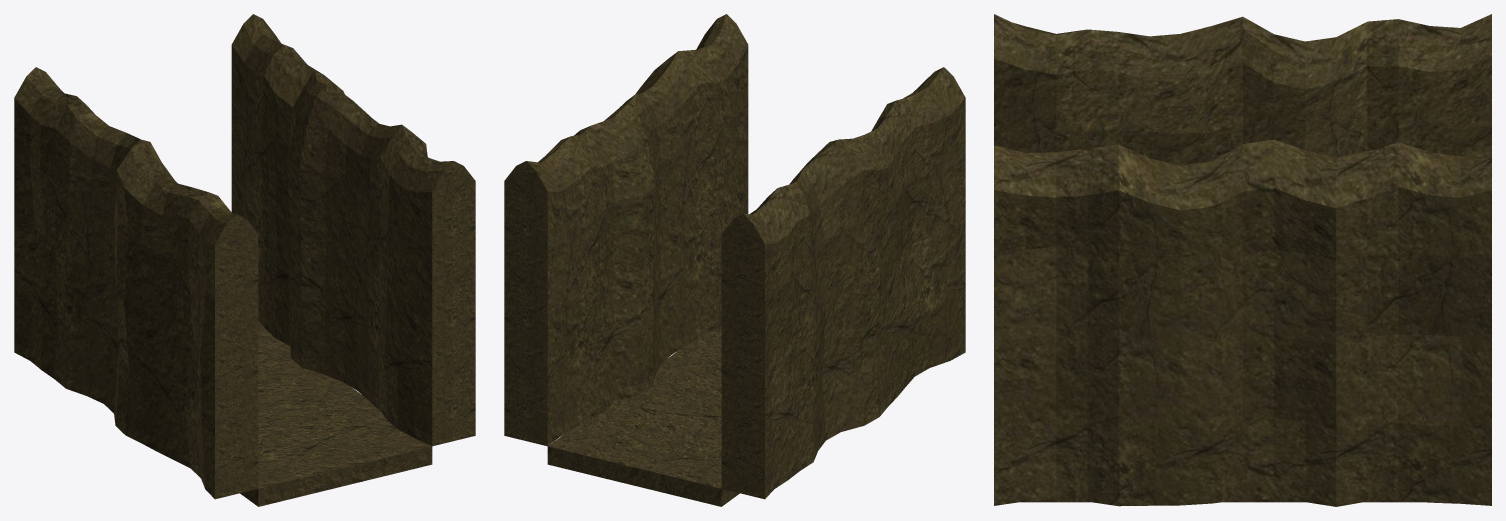
Rendered from cave_corridor_01_limestone.glb.
3 renders of one model, left to right at view 1: azimuth 30°, elevation 25°; view 2: azimuth 150°, elevation 25°; view 3: azimuth 270°, elevation 25°, orthographic. The views are drawn at different scales.
Visible parts, largest first — view 1: cave_corridor_01_limestone; view 2: cave_corridor_01_limestone; view 3: cave_corridor_01_limestone.
Part boxes in pixels (x1=…): cave_corridor_01_limestone: x1=14, y1=14, x2=475, y2=506; cave_corridor_01_limestone: x1=504, y1=14, x2=965, y2=506; cave_corridor_01_limestone: x1=994, y1=14, x2=1491, y2=506.
Size of the model in its own units: 3.09 by 3.28 by 4.
2 materials, 2 textured.
